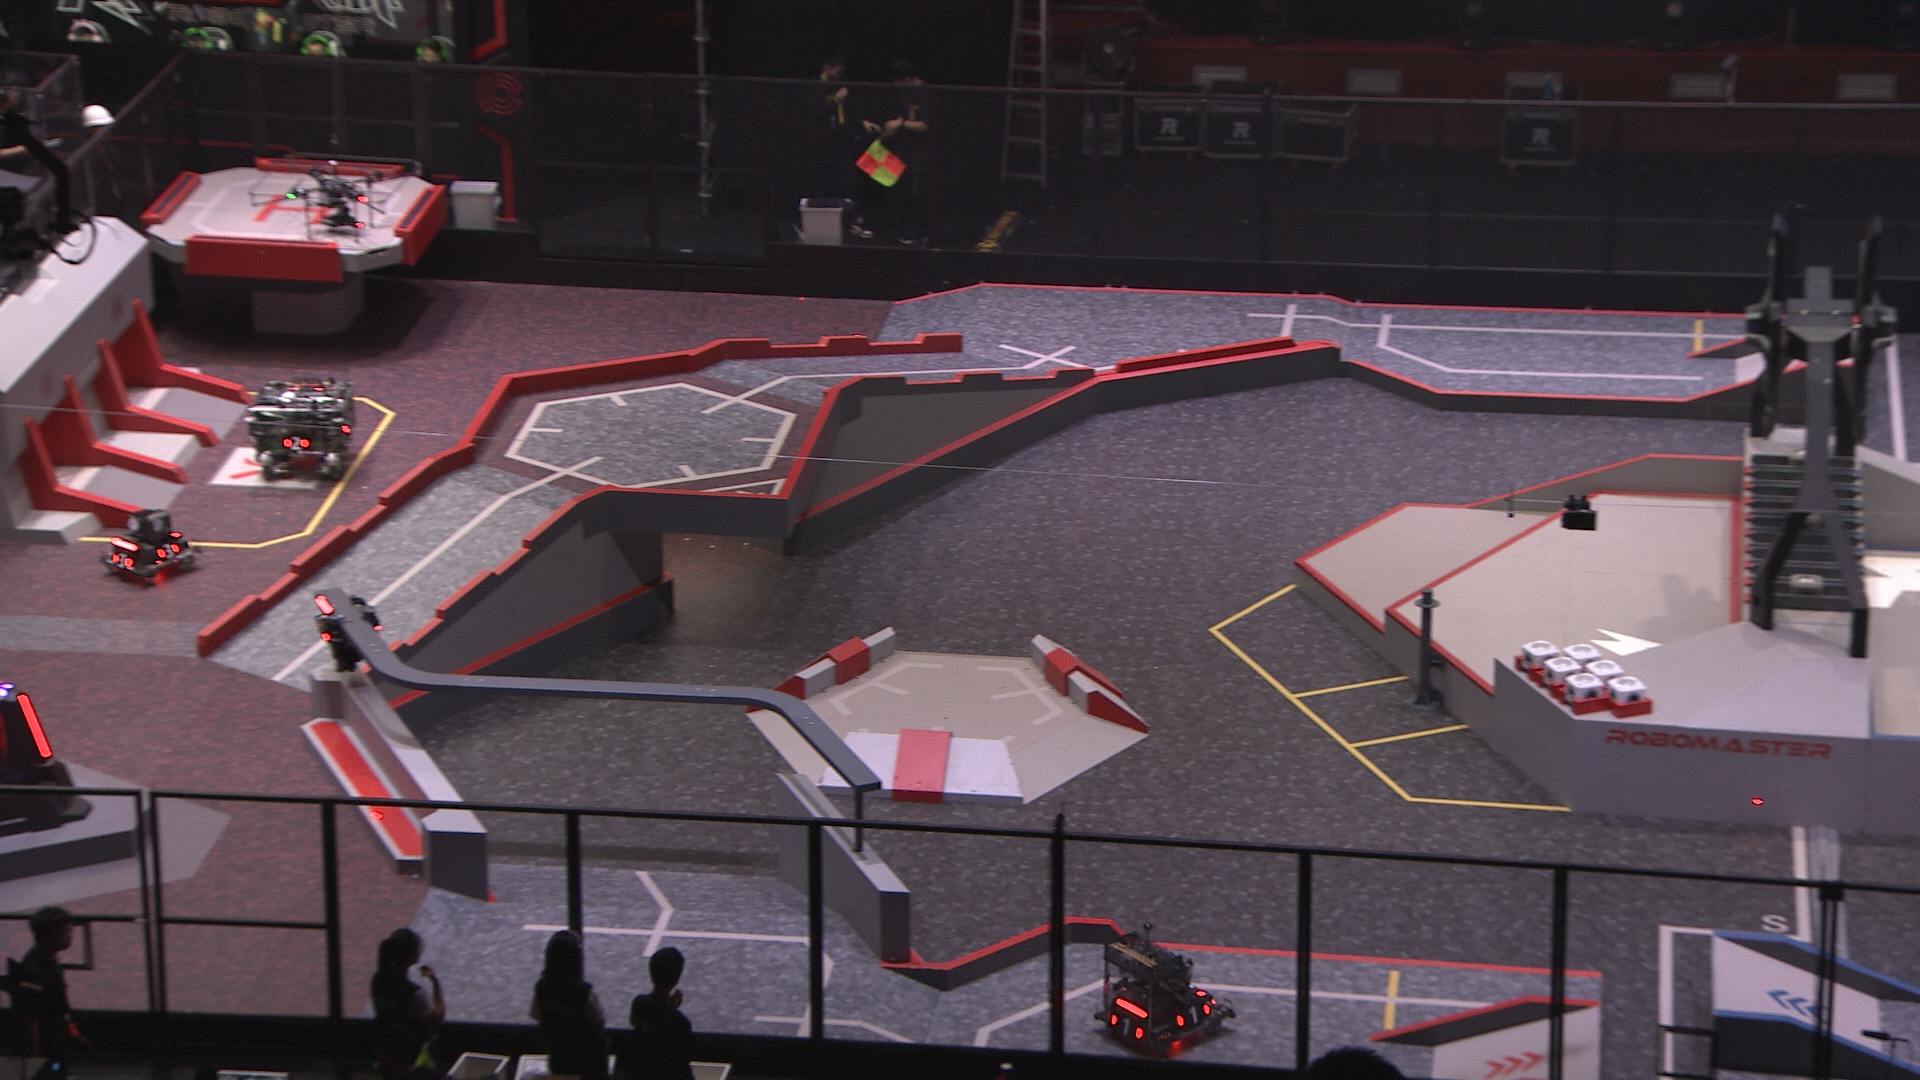armor: (13, 690, 51, 760), (1106, 1014, 1150, 1043), (1178, 1001, 1215, 1027), (154, 538, 182, 562), (313, 616, 334, 645), (281, 433, 310, 452), (109, 550, 135, 570), (338, 414, 353, 438)
car: (1093, 920, 1242, 1055), (240, 376, 363, 476), (96, 506, 199, 585)
watcher: (309, 589, 384, 676)
